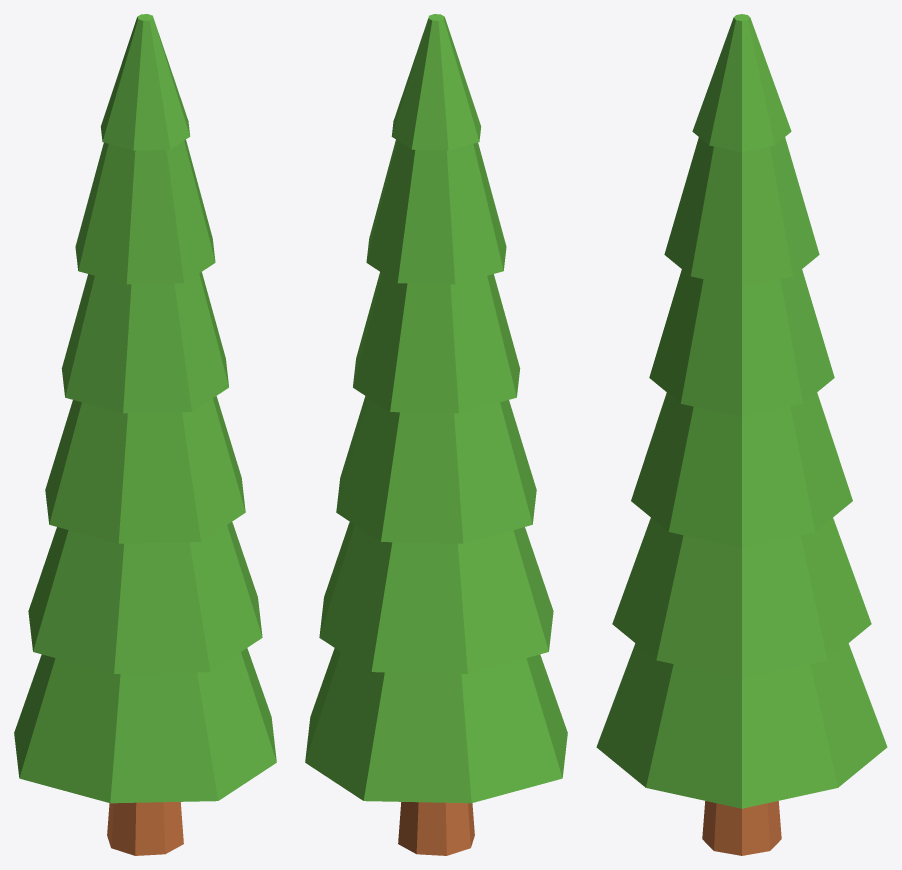
Rendered from Tree1, Tall_Skinny.fbx.
3 renders of one model, left to right at view 1: azimuth 30°, elevation 25°; view 2: azimuth 150°, elevation 25°; view 3: azimuth 270°, elevation 25°, orthographic.
Visible parts, largest first — view 1: Pine Tree; view 2: Pine Tree; view 3: Pine Tree.
Boxes of the visible parts, left/top/right/bottom form: Pine Tree: left=14, top=14, right=276, bottom=855; Pine Tree: left=305, top=14, right=567, bottom=855; Pine Tree: left=596, top=14, right=887, bottom=855.
Size of the model in its own units: 139 by 433 by 139.
